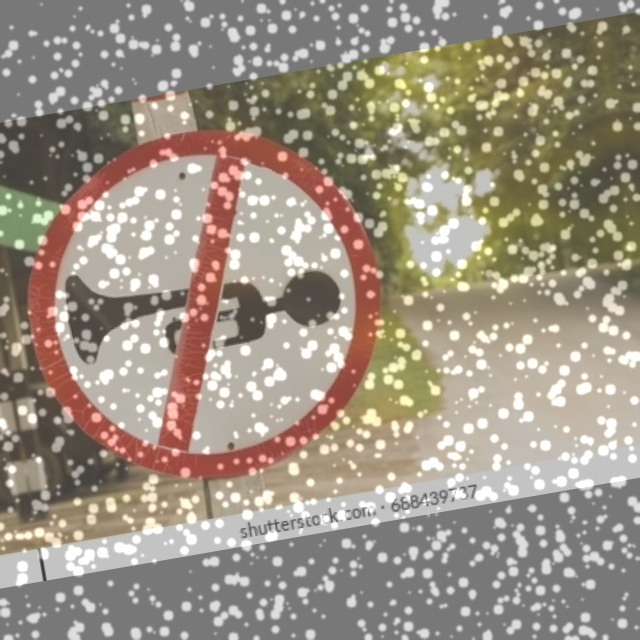Horn_Prohibited: (20, 122, 393, 483)
